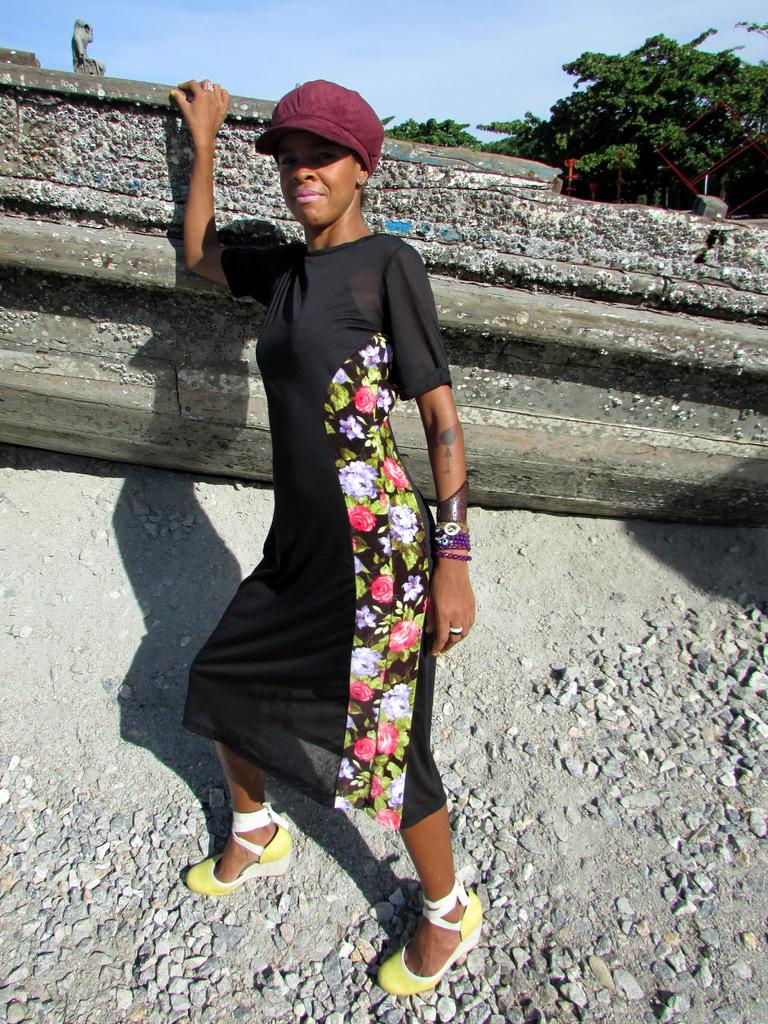Hat: (257, 82, 386, 176)
